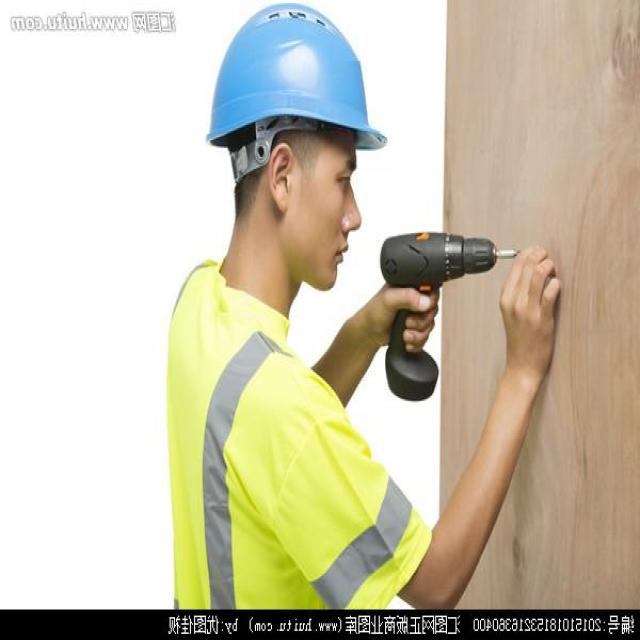Reflective-Jacket: (159, 282, 427, 606)
Safety-Helmet: (201, 2, 386, 158)
